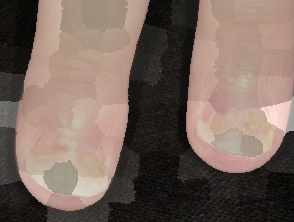Nail_psoriasis: (185, 51, 294, 174), (15, 86, 121, 207)
